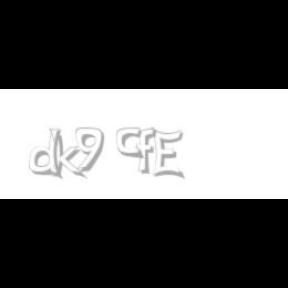9: (76, 128, 104, 172)
E: (151, 128, 184, 180)
c: (116, 128, 146, 160)
d: (30, 128, 66, 180)
f: (136, 128, 160, 174)
k: (49, 128, 87, 180)
